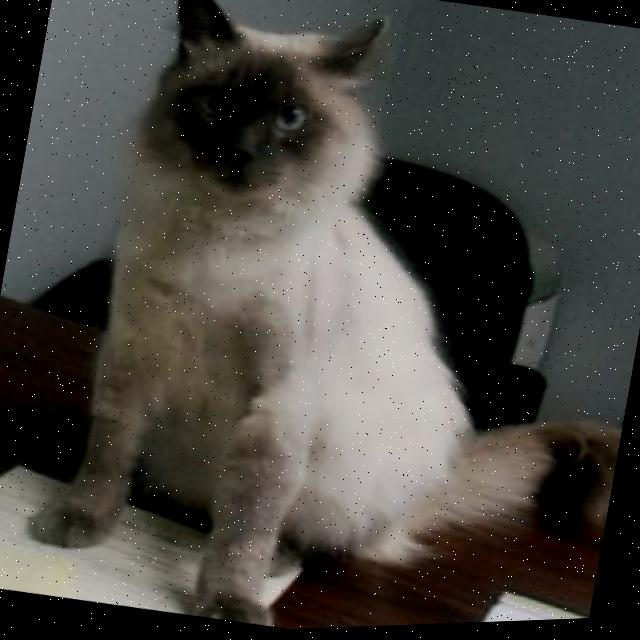Ragdoll: (12, 0, 640, 640)
